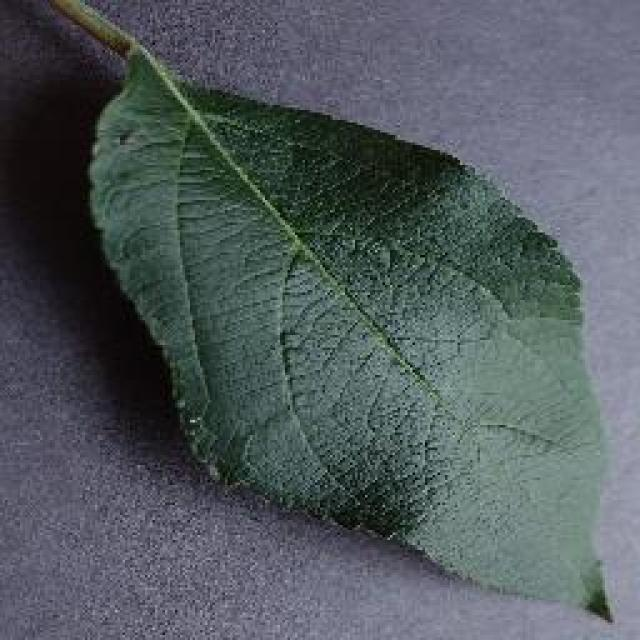apple scab disease: (20, 0, 617, 622)
